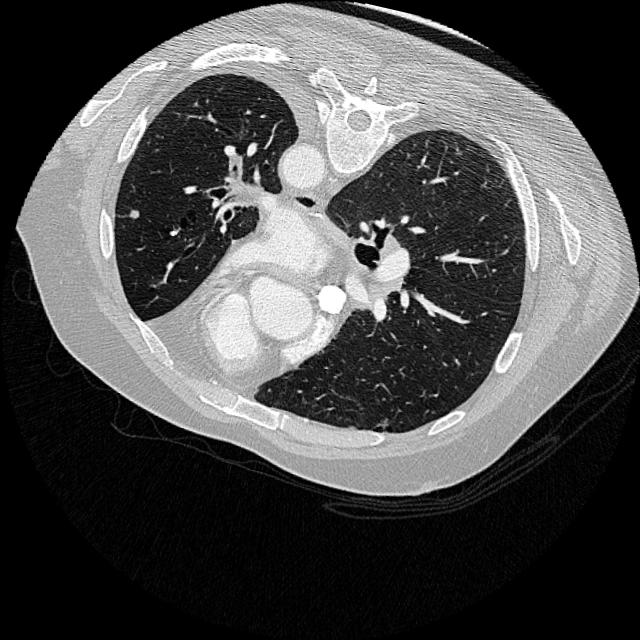nodule: (120, 202, 148, 229)
